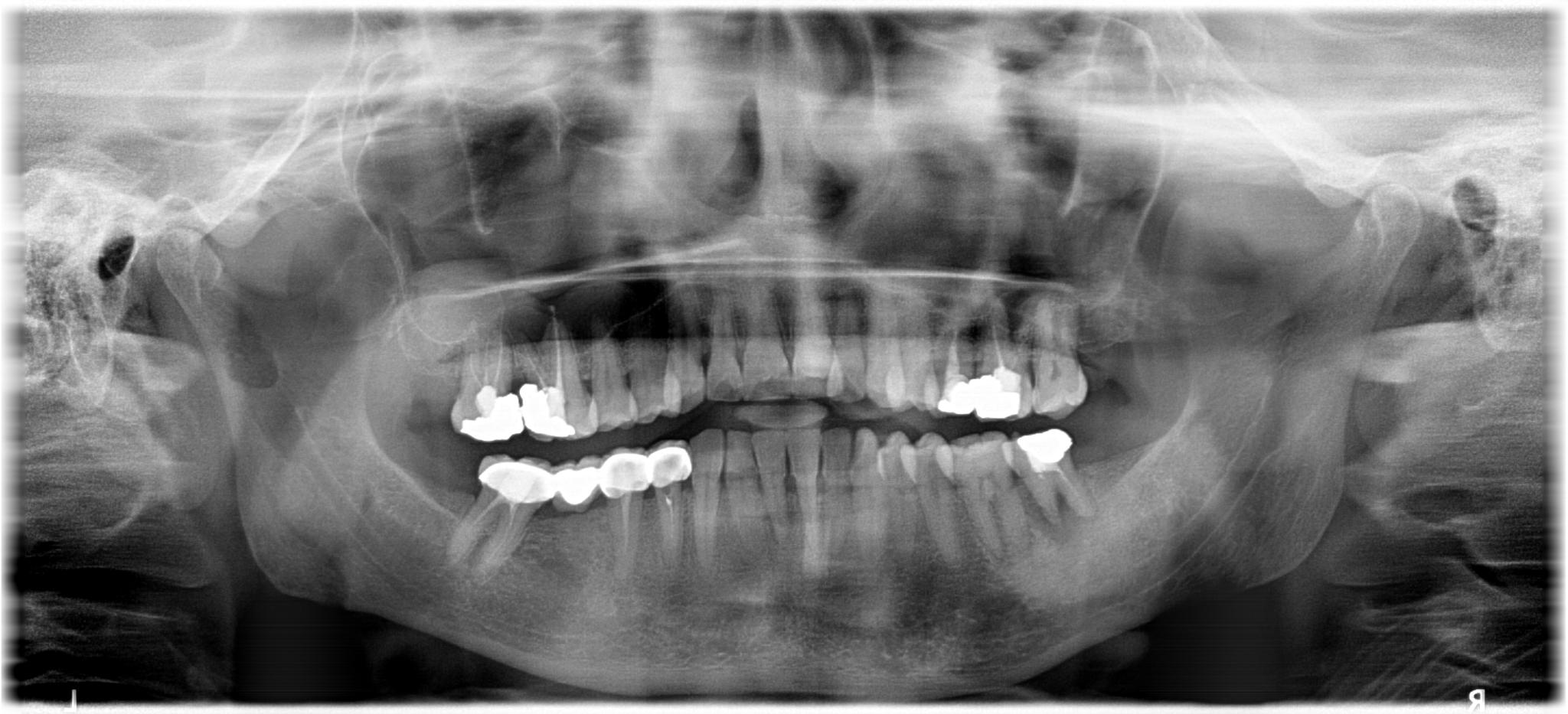Premolars: (545, 247, 1568, 677)
